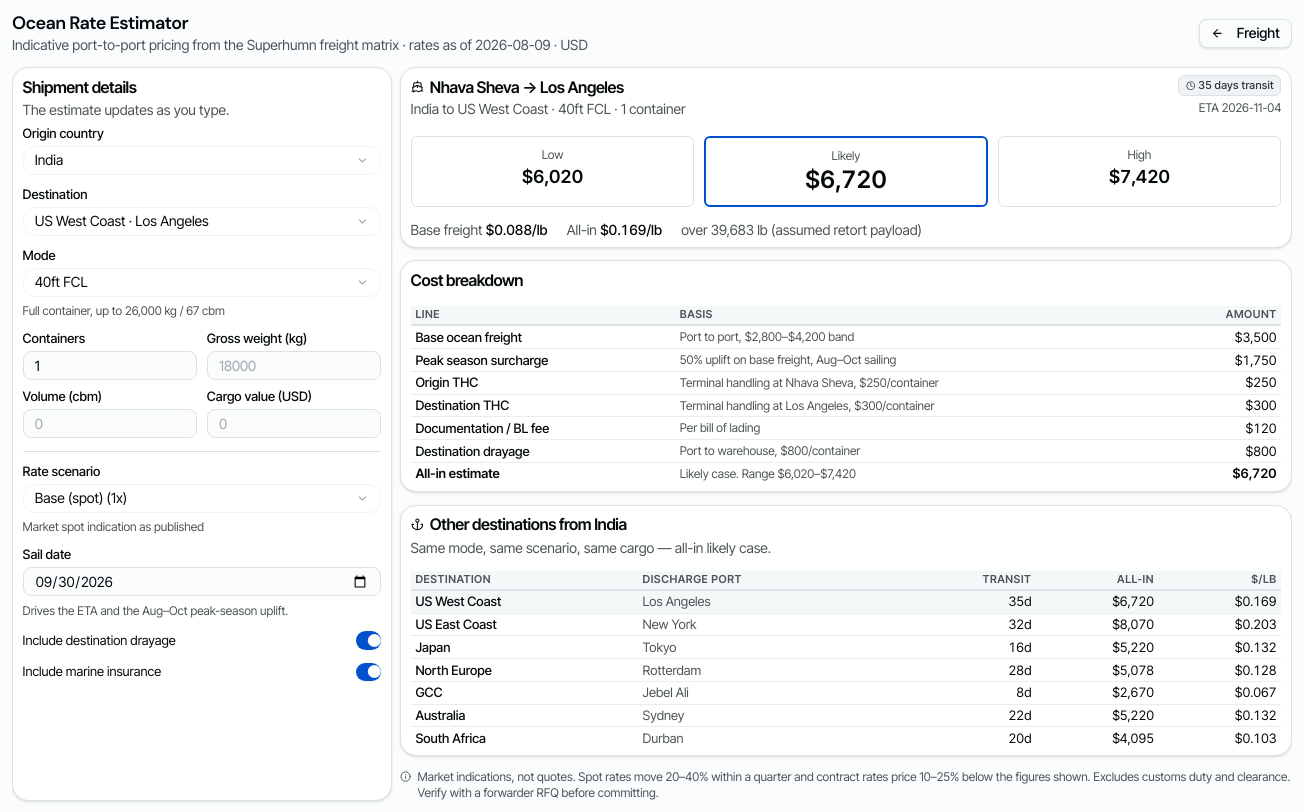
Scenario: RateEstimator › exposes each comparison destination as a keyboard-reachable button
The width and height of the screenshot is (1304, 812).
Type "2026-03-01" into the date field labelled "Sail date".
click(202, 582); type("2026-03-01")  # box [23, 567, 381, 596]
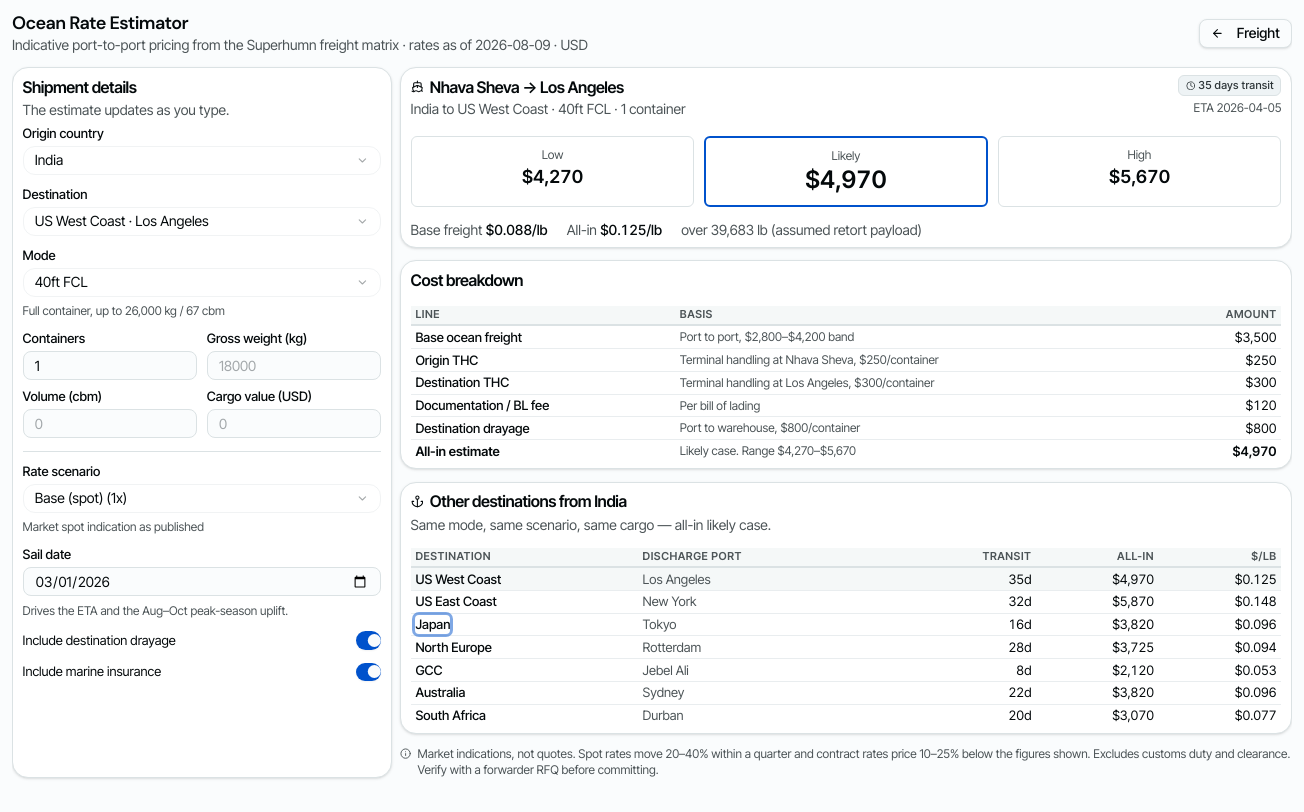
Click the button "Japan".
click(433, 624)  # box [415, 615, 450, 634]
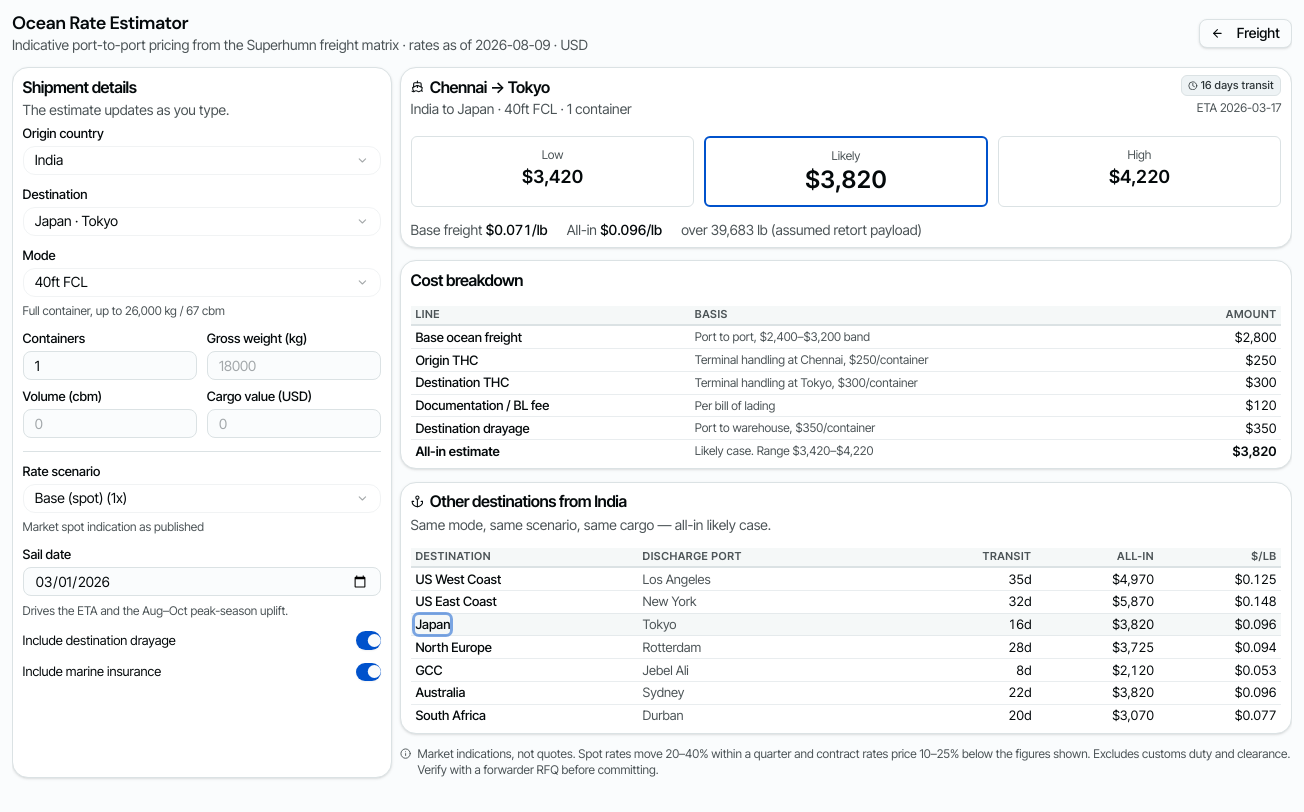
Check: the text "Chennai → Tokyo" is shown, box [411, 77, 550, 97]
